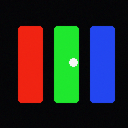0 point: (69, 58, 77, 66)
